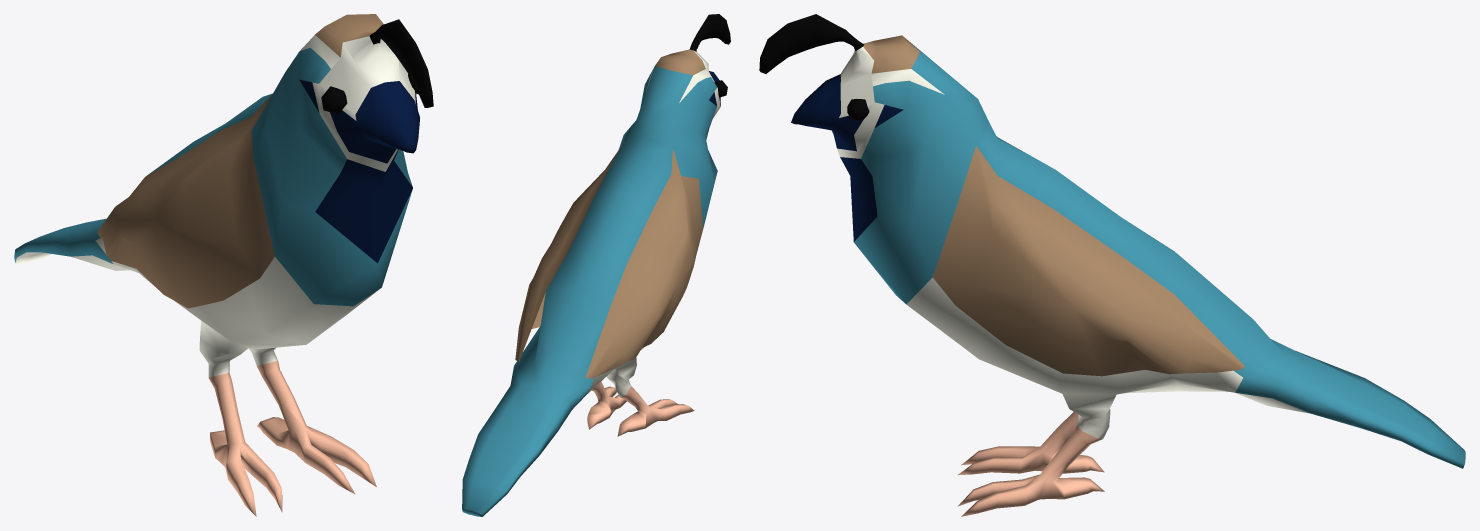
File: NOVELO_QUAIL.obj
3 renders of one model, left to right at view 1: azimuth 30°, elevation 25°; view 2: azimuth 150°, elevation 25°; view 3: azimuth 270°, elevation 25°, orthographic. The views are drawn at different scales.
Visible parts, largest first — view 1: Quail.1; view 2: Quail.1; view 3: Quail.1.
Part boxes in pixels (x1,y1,x2,y2): Quail.1: (14, 14, 433, 516); Quail.1: (462, 14, 730, 516); Quail.1: (759, 14, 1465, 516).
Bounding box in the file's own units: 157 × 404 × 542.
